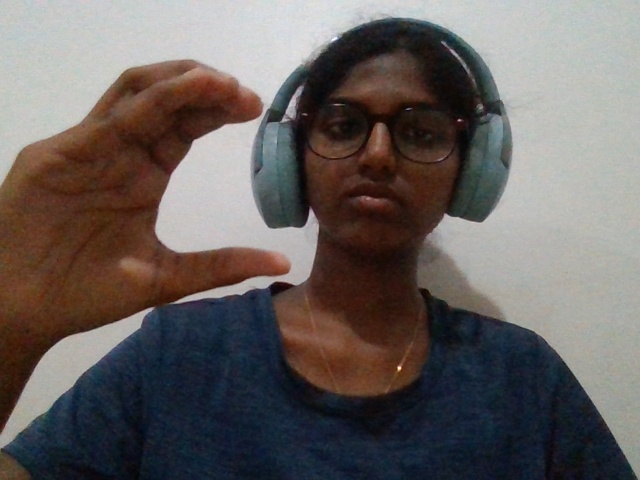C: (3, 34, 303, 395)
